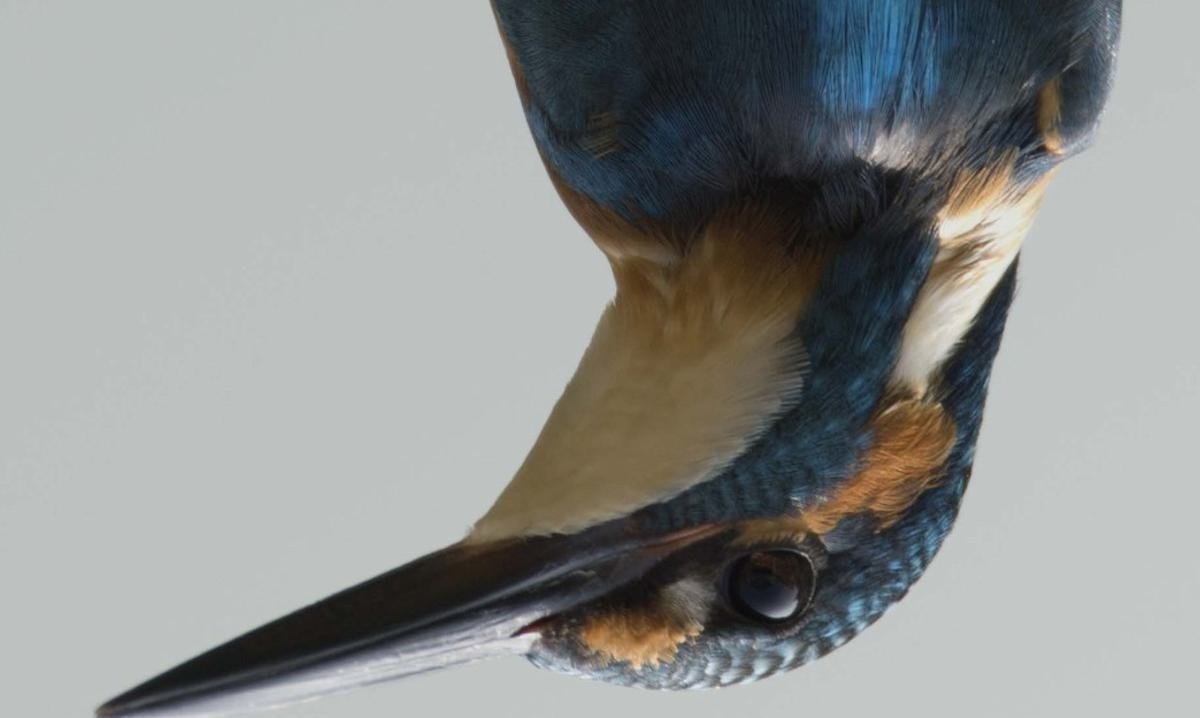kingfisher: (93, 1, 1131, 715)
